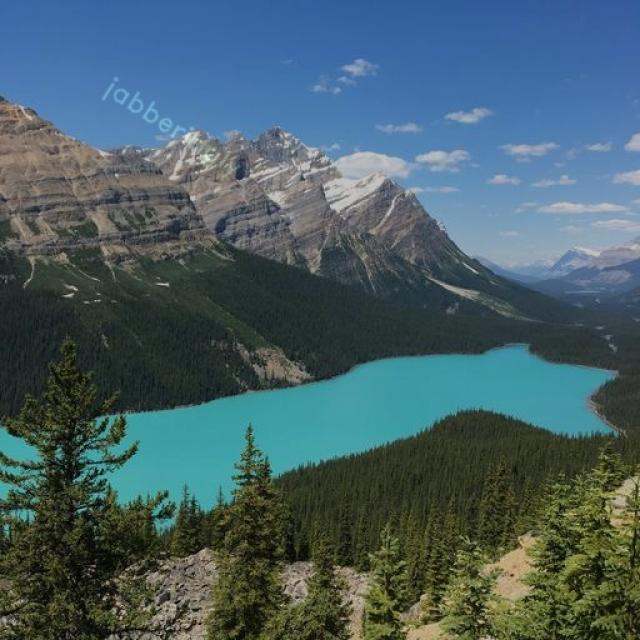watermark: (96, 70, 254, 182)
